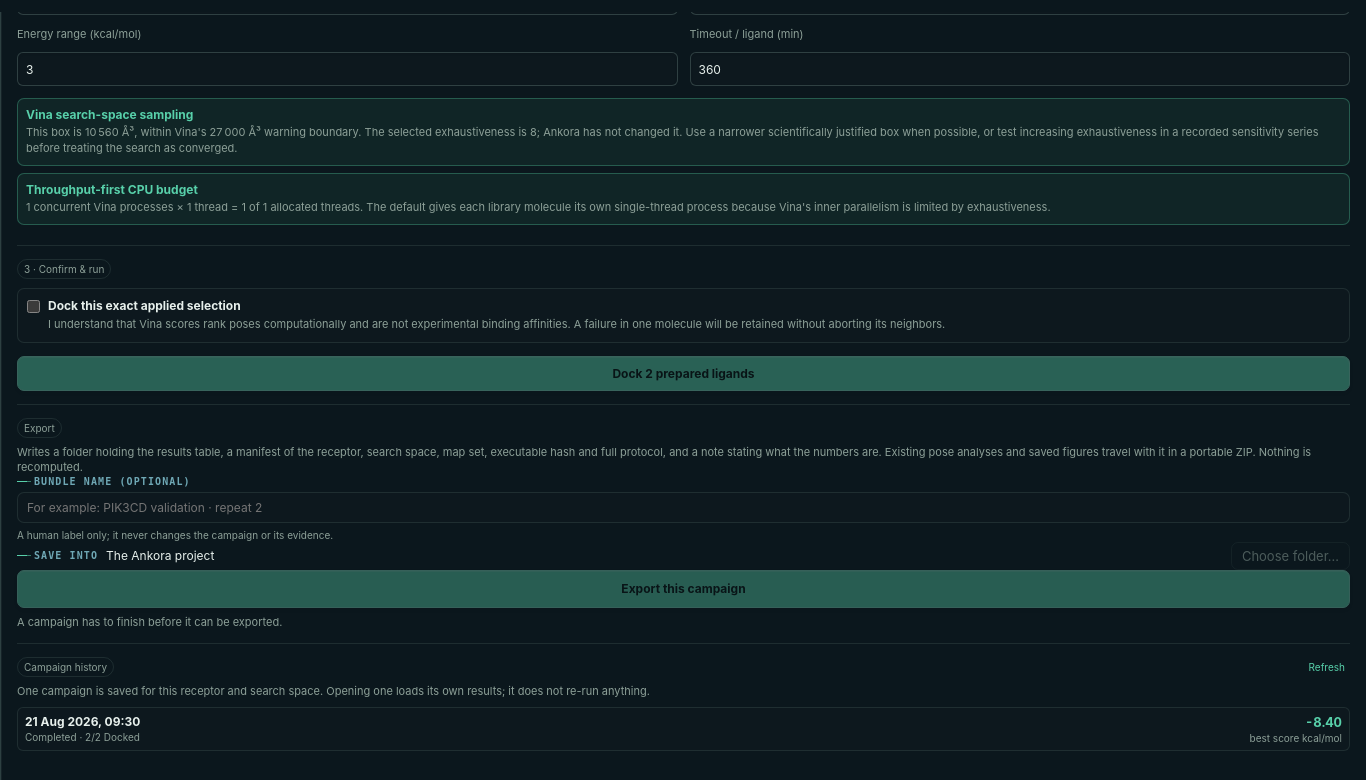
marks the open campaign and does not offer to reopen it
(page scrolled)
Click the text "-8.40" at (1323, 722), box x1=1305 y1=714 x2=1342 y2=730
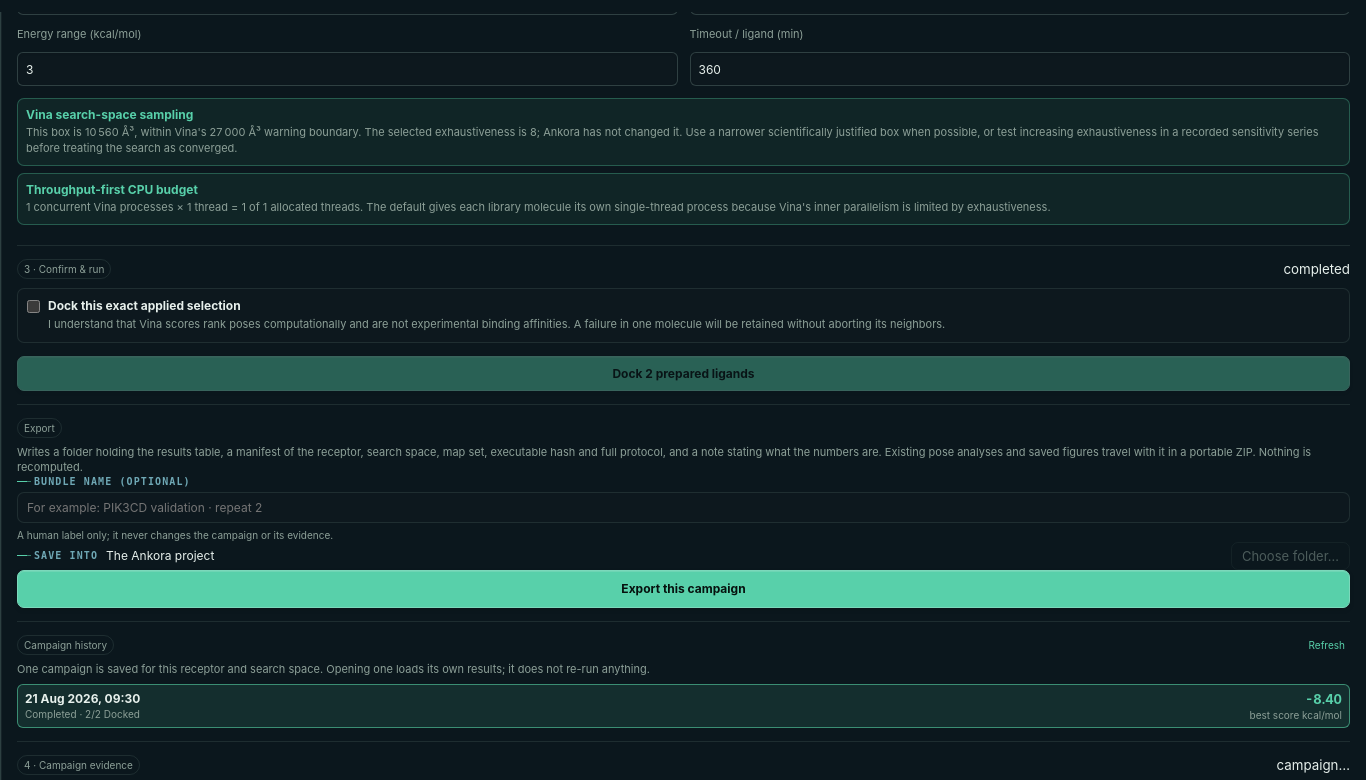
Now the button "-8.40" is disabled, box x1=17 y1=684 x2=1350 y2=728
